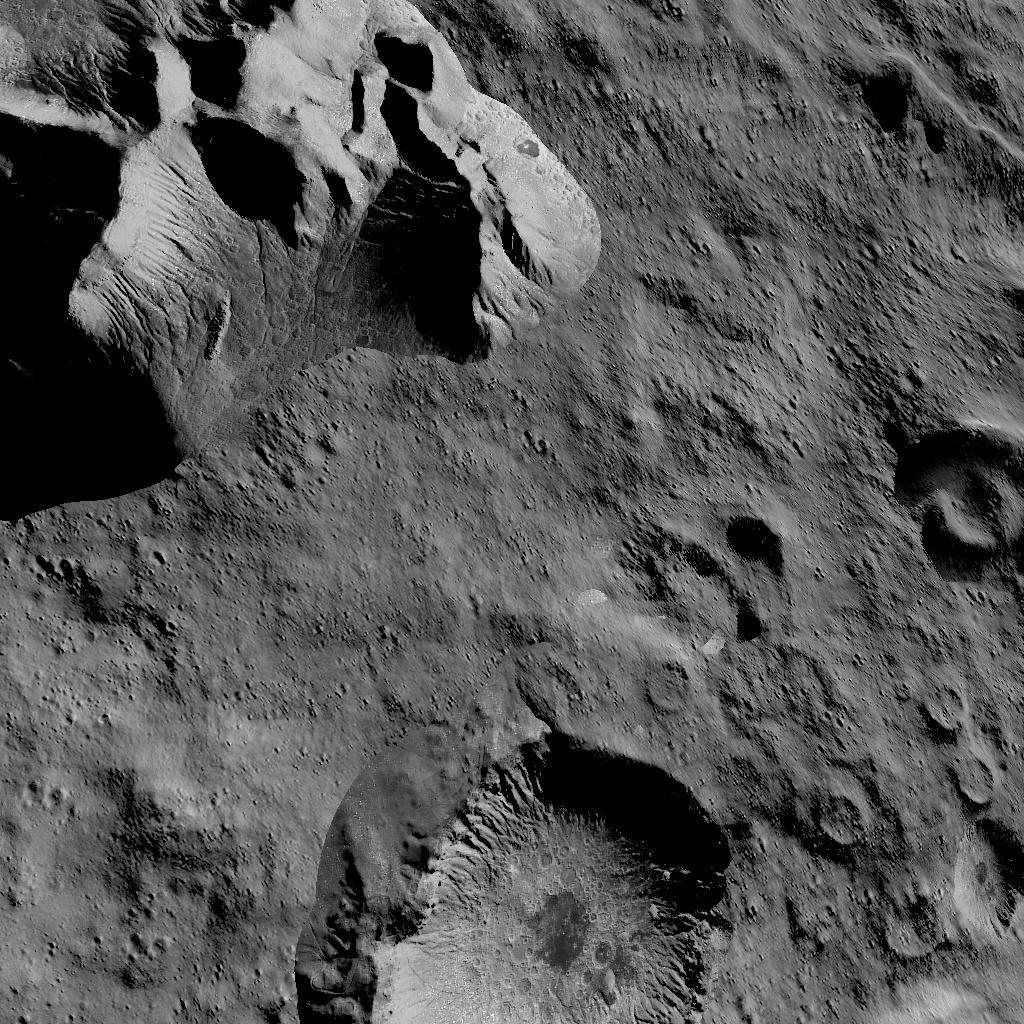Boulders: (0, 0, 605, 518)
Crater: (313, 726, 765, 1024), (901, 414, 1024, 577), (722, 508, 804, 636), (814, 786, 878, 856), (948, 752, 1010, 812), (918, 679, 982, 737), (643, 654, 706, 711)
Plan surface: (0, 530, 299, 1024), (629, 152, 1024, 398), (309, 526, 616, 716)
